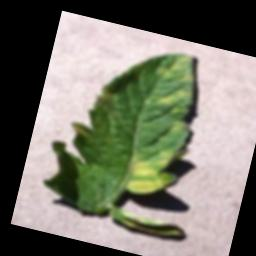Leaf_Mold: (123, 140, 182, 201)
